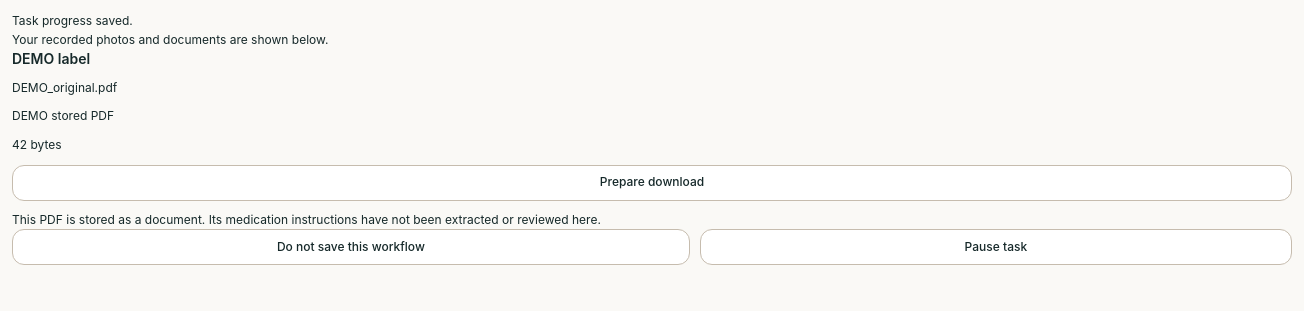
Test: keeps PDF metadata after download failure and allows an explicit retry
Later steps or results of the test are not shown.
Click the button "Prepare download".
click(652, 183)  # box [12,165,1292,201]
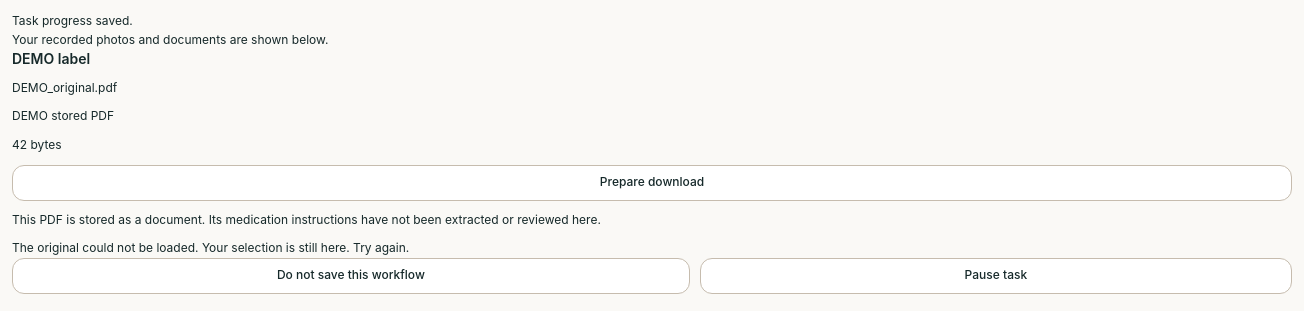
Check: the heading "DEMO label" is shown, box [12,50,90,67]
Check: the message "The original could not be loaded. Your selection is still here. Try again." is shown, box [12,240,409,255]
